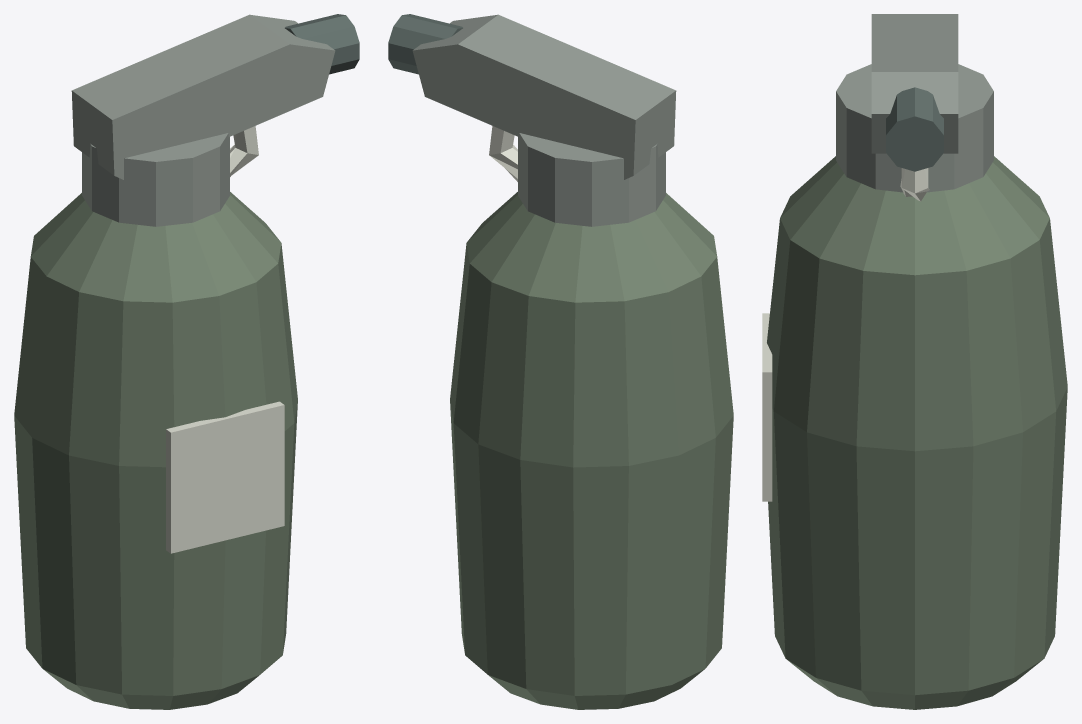
The model's file is trigger-sprayer.glb.
The picture shows the model from 3 angles, left to right: view 1: azimuth 30°, elevation 25°; view 2: azimuth 150°, elevation 25°; view 3: azimuth 270°, elevation 25°; orthographic projection. The views are drawn at different scales.
Parts seen in each view (by area): view 1: trigger-sprayer/closed-spray-bottle, trigger-sprayer/trigger-head, trigger-sprayer/simple-front-label, trigger-sprayer/screw-neck, trigger-sprayer/nozzle, trigger-sprayer/trigger-lever; view 2: trigger-sprayer/closed-spray-bottle, trigger-sprayer/trigger-head, trigger-sprayer/screw-neck, trigger-sprayer/nozzle, trigger-sprayer/trigger-lever; view 3: trigger-sprayer/closed-spray-bottle, trigger-sprayer/screw-neck, trigger-sprayer/trigger-head, trigger-sprayer/nozzle, trigger-sprayer/simple-front-label, trigger-sprayer/trigger-lever.
Boxes of the visible parts, bbox=[...] form: trigger-sprayer/closed-spray-bottle: bbox=[14, 192, 297, 709]; trigger-sprayer/trigger-head: bbox=[71, 14, 335, 179]; trigger-sprayer/simple-front-label: bbox=[166, 401, 284, 553]; trigger-sprayer/screw-neck: bbox=[82, 133, 229, 226]; trigger-sprayer/nozzle: bbox=[285, 14, 359, 74]; trigger-sprayer/trigger-lever: bbox=[230, 126, 258, 176]; trigger-sprayer/closed-spray-bottle: bbox=[450, 192, 733, 709]; trigger-sprayer/trigger-head: bbox=[412, 14, 676, 179]; trigger-sprayer/screw-neck: bbox=[518, 133, 665, 226]; trigger-sprayer/nozzle: bbox=[388, 14, 462, 74]; trigger-sprayer/trigger-lever: bbox=[489, 126, 517, 181]; trigger-sprayer/closed-spray-bottle: bbox=[767, 156, 1067, 709]; trigger-sprayer/screw-neck: bbox=[836, 64, 993, 192]; trigger-sprayer/trigger-head: bbox=[871, 14, 958, 153]; trigger-sprayer/nozzle: bbox=[886, 87, 943, 171]; trigger-sprayer/simple-front-label: bbox=[762, 313, 772, 501]; trigger-sprayer/trigger-lever: bbox=[900, 168, 929, 201].
Bounding box in the file's own units: 0.152 × 0.282 × 0.12.
4 materials, 4 textured.
